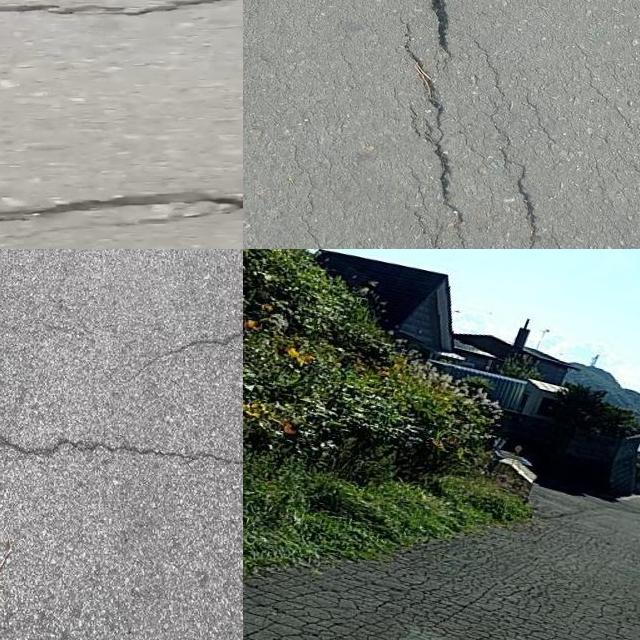Melintang: (0, 177, 243, 238), (0, 424, 243, 478), (105, 315, 243, 377), (0, 0, 243, 29)
Memanjang: (391, 0, 463, 249)
Retak Buaya: (243, 521, 640, 640)
